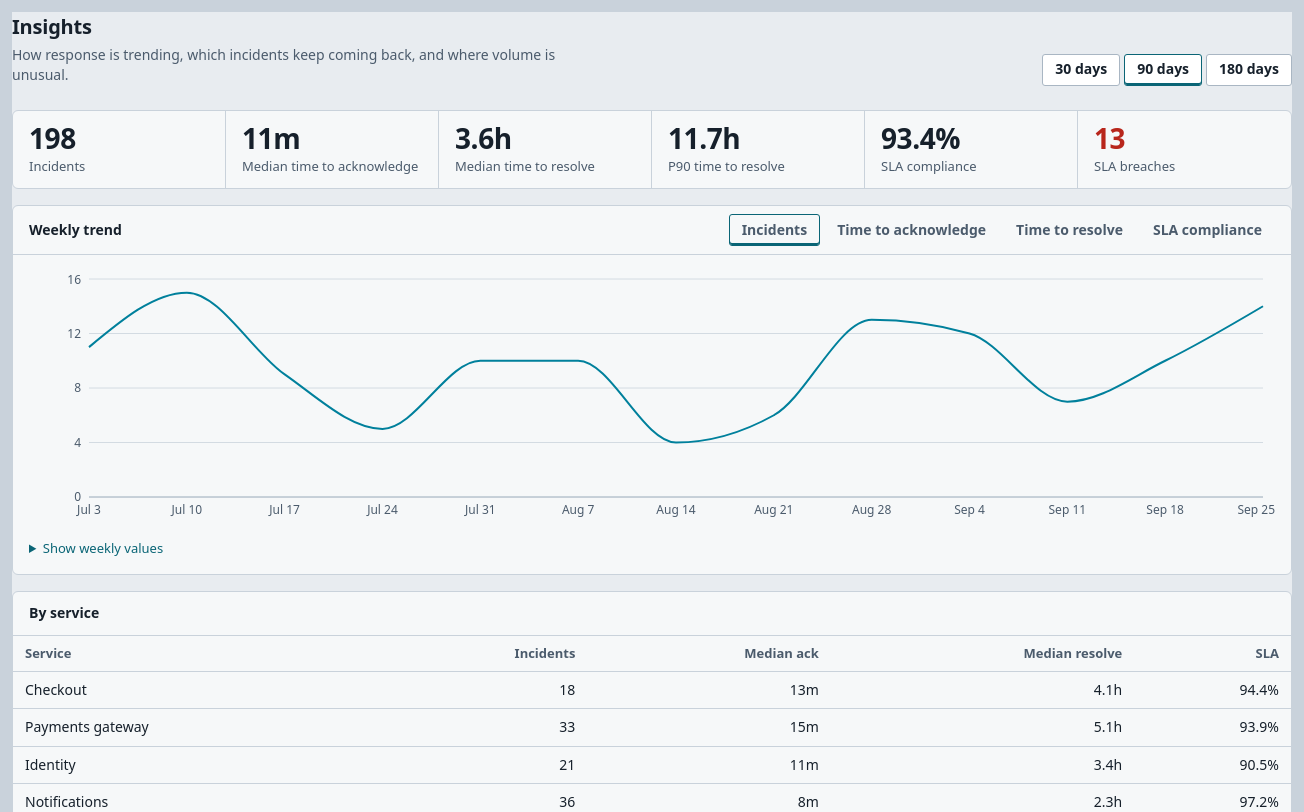
Test: InsightsPage › switches the trend metric
Expected: the element named "Key indicators" is shown, [12,110,1292,189]
Step 1. Click the button "Time to resolve" → {"x": 1069, "y": 230}, box [1003,214,1136,246]
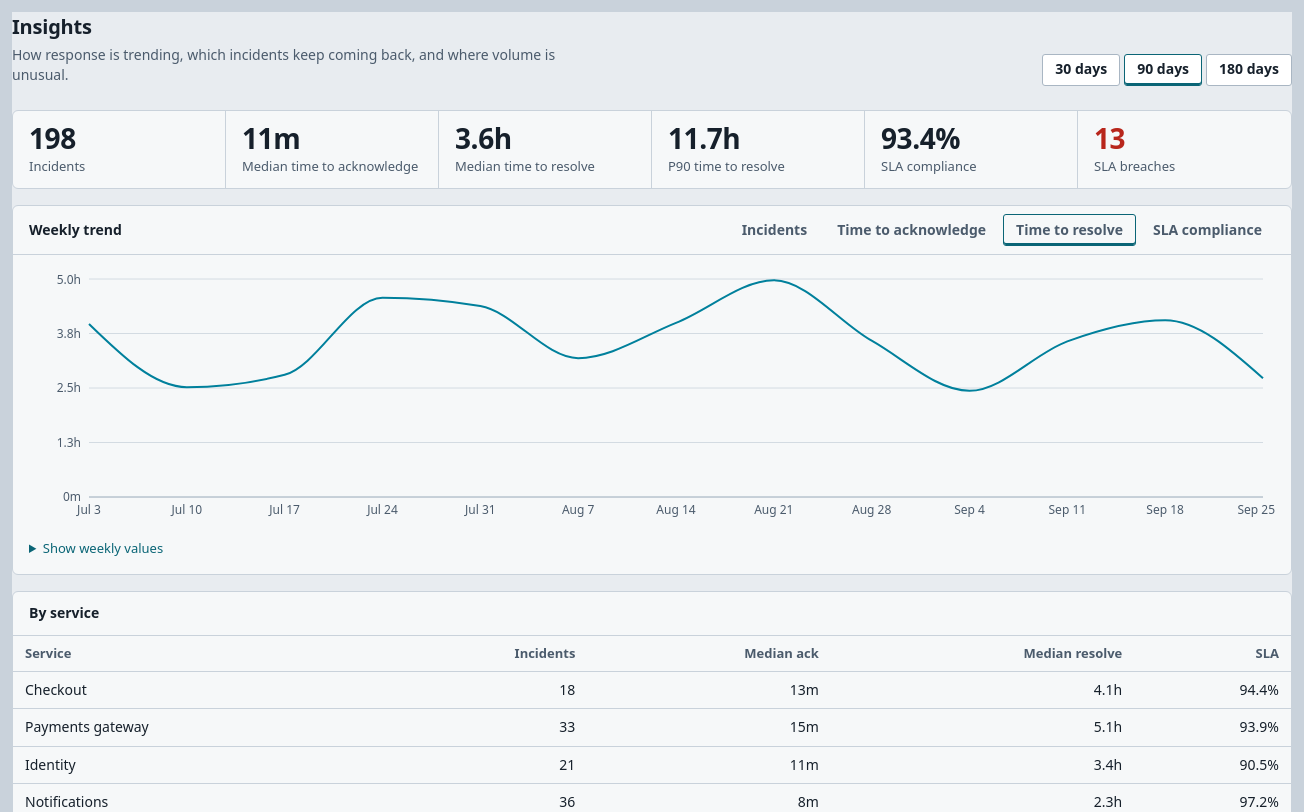
Expected: the picture named "Time to resolve per week" is shown, [29,271,1275,527]
